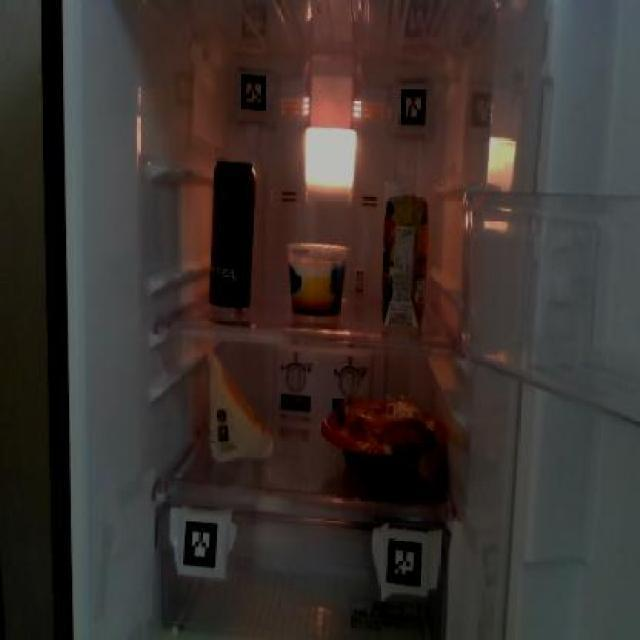bento: (320, 398, 446, 472)
can: (208, 154, 257, 308)
pudding: (286, 240, 348, 314)
sandwich: (204, 344, 278, 473)
smoothie: (379, 176, 428, 330)
